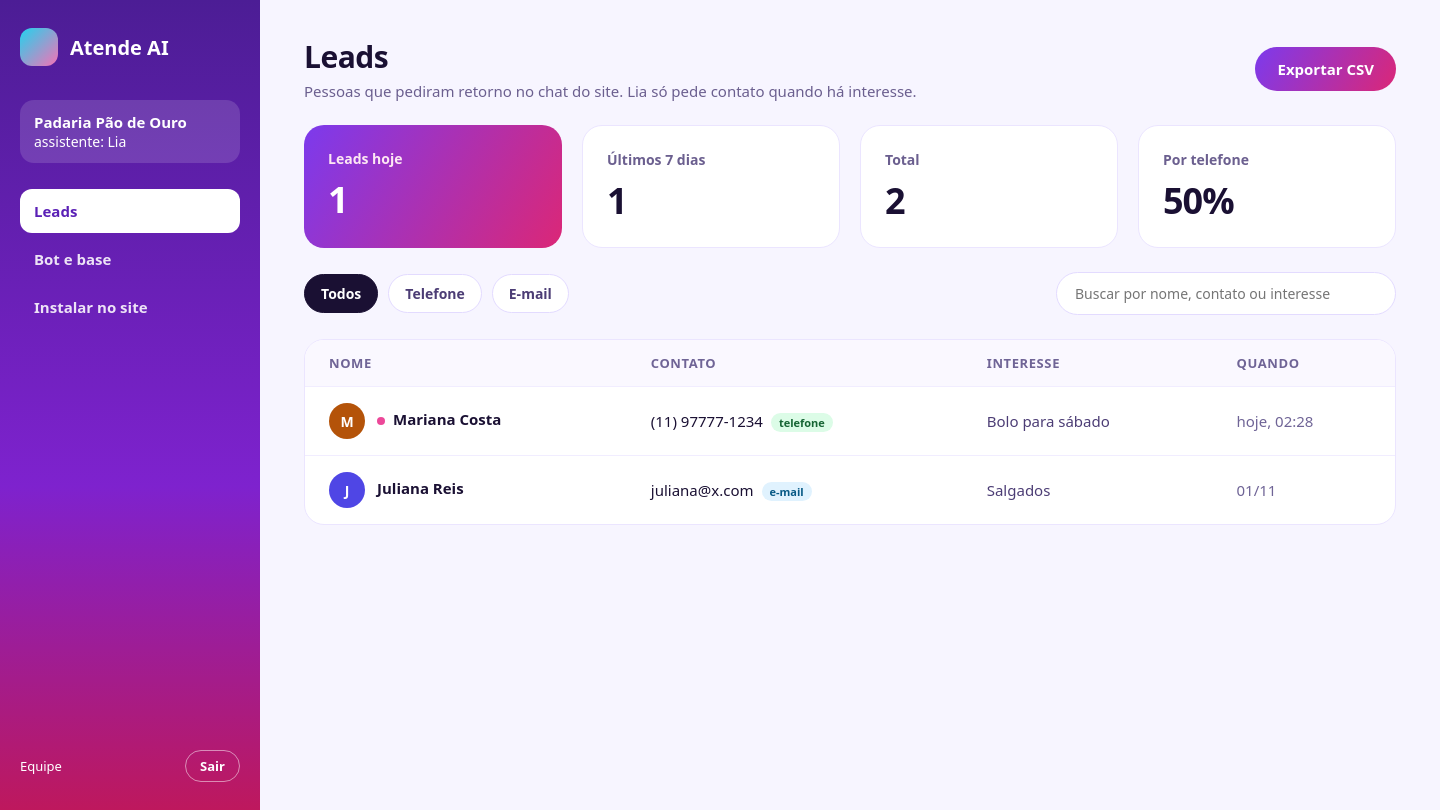
Test: leads › lista, conta e filtra
This screenshot has width=1440, height=810.
Check: the number of rows is 3, box left=305, top=340, right=1395, bottom=386; left=305, top=386, right=1395, bottom=455; left=305, top=455, right=1395, bottom=524
Check: the text "1" below "Leads hoje" is shown, box left=328, top=175, right=348, bottom=224
What coordinates should you click on to do the following:
click the button "E-mail"
I would click on:
 (530, 294)
Its box is left=492, top=274, right=569, bottom=313.
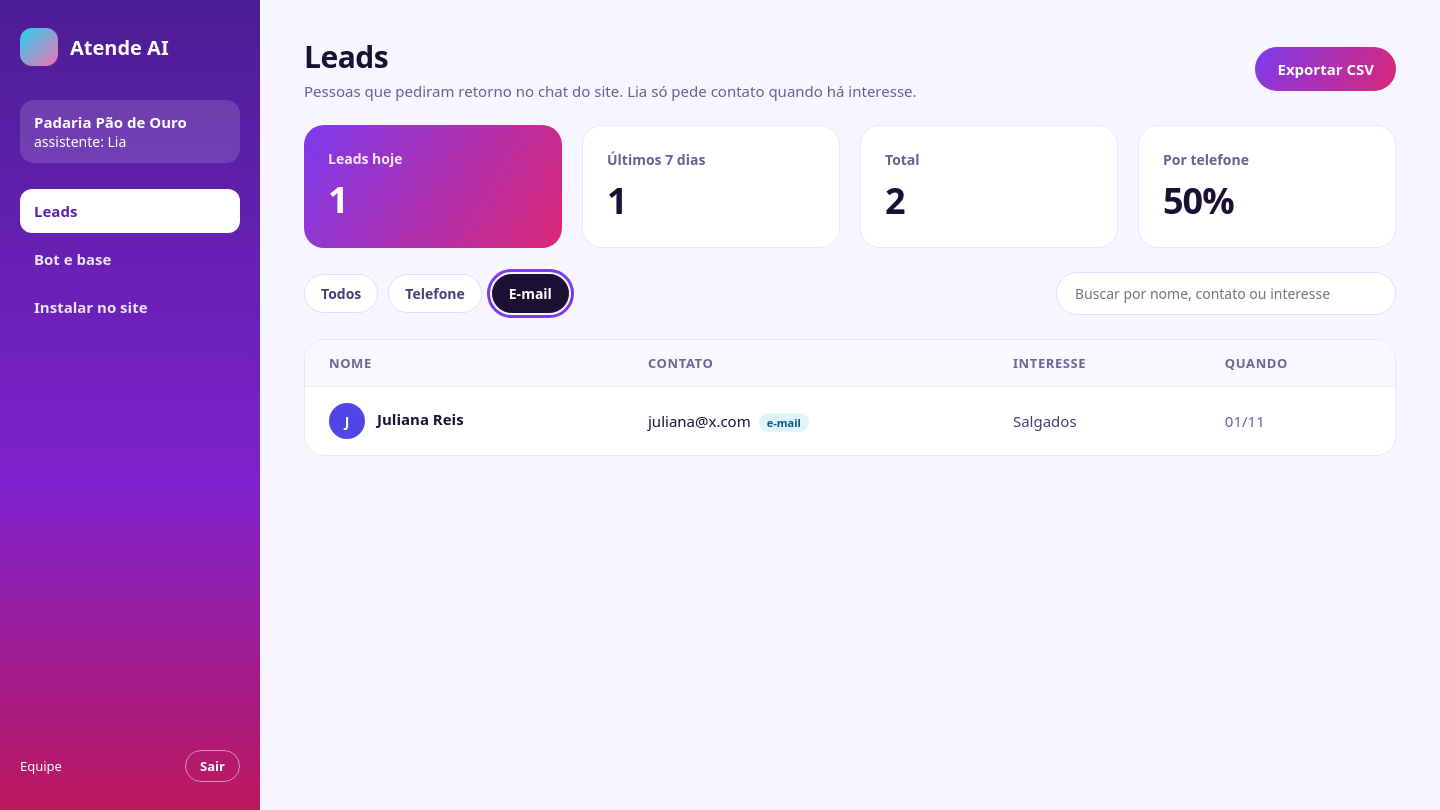
Check: the text "Juliana Reis" is shown, box left=377, top=409, right=464, bottom=429
Check: the number of rows is 2, box left=305, top=340, right=1395, bottom=386; left=305, top=386, right=1395, bottom=455
